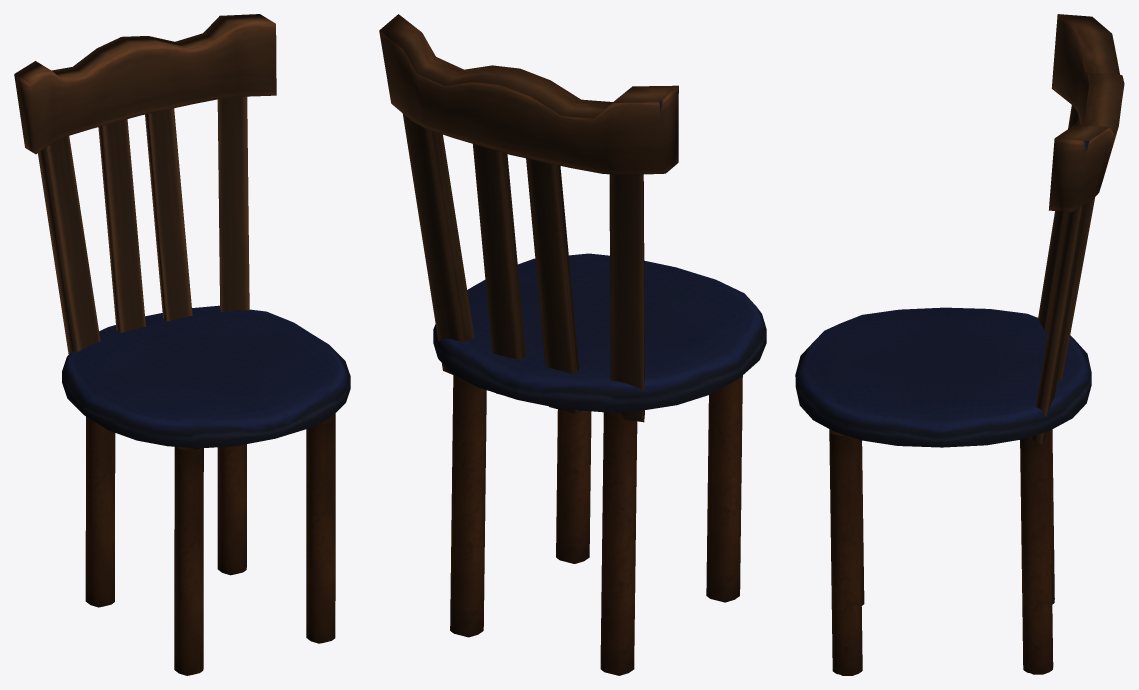
The model's file is BrokenChair2.fbx.
The picture shows the model from 3 angles, left to right: view 1: azimuth 30°, elevation 25°; view 2: azimuth 150°, elevation 25°; view 3: azimuth 270°, elevation 25°; orthographic projection. The views are drawn at different scales.
Visible parts, largest first — view 1: Chair_Backing_C1, Chair_Cushion_Base_B1, Chair_Legs_B1; view 2: Chair_Backing_C1, Chair_Legs_B1, Chair_Cushion_Base_B1; view 3: Chair_Cushion_Base_B1, Chair_Backing_C1, Chair_Legs_B1.
Part boxes in pixels (left/top/right/bottom): Chair_Backing_C1: left=14, top=14, right=276, bottom=354; Chair_Cushion_Base_B1: left=62, top=305, right=350, bottom=448; Chair_Legs_B1: left=85, top=413, right=335, bottom=675; Chair_Backing_C1: left=379, top=14, right=678, bottom=422; Chair_Legs_B1: left=450, top=374, right=742, bottom=675; Chair_Cushion_Base_B1: left=433, top=253, right=766, bottom=412; Chair_Cushion_Base_B1: left=795, top=307, right=1091, bottom=447; Chair_Backing_C1: left=1030, top=14, right=1124, bottom=444; Chair_Legs_B1: left=829, top=429, right=1054, bottom=675.
Size of the model in its own units: 5.66 by 11.8 by 6.24.
